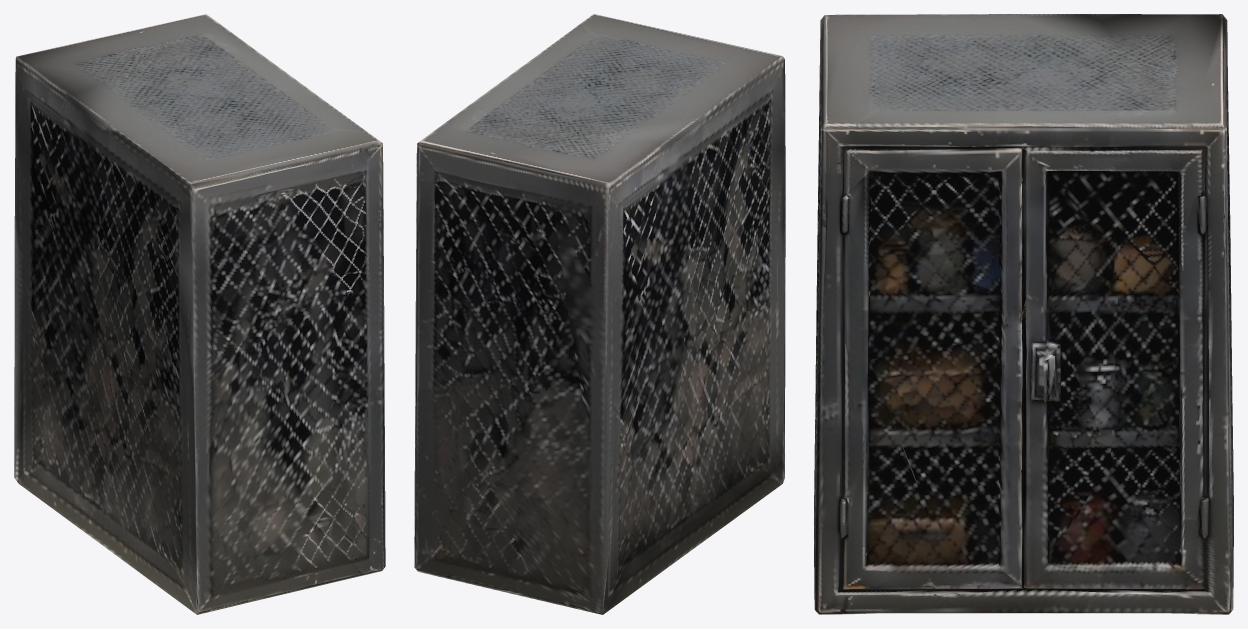
The model's file is tripo_convert_5d20d0fb-4084-4ba3-8c6b-008baa7b5871.fbx.
3 views of the same model, side by side, from view 1: azimuth 30°, elevation 25°; view 2: azimuth 150°, elevation 25°; view 3: azimuth 270°, elevation 25° (orthographic). The views are drawn at different scales.
Visible parts, largest first — view 1: tripo_node_5d20d0fb; view 2: tripo_node_5d20d0fb; view 3: tripo_node_5d20d0fb.
Part boxes in pixels (left/top/right/bottom): tripo_node_5d20d0fb: left=14, top=14, right=385, bottom=614; tripo_node_5d20d0fb: left=414, top=14, right=785, bottom=614; tripo_node_5d20d0fb: left=814, top=14, right=1233, bottom=614.
Size of the model in its own units: 0.5039 by 1 by 0.7689.
Materials: 1 (1 with a texture image).
